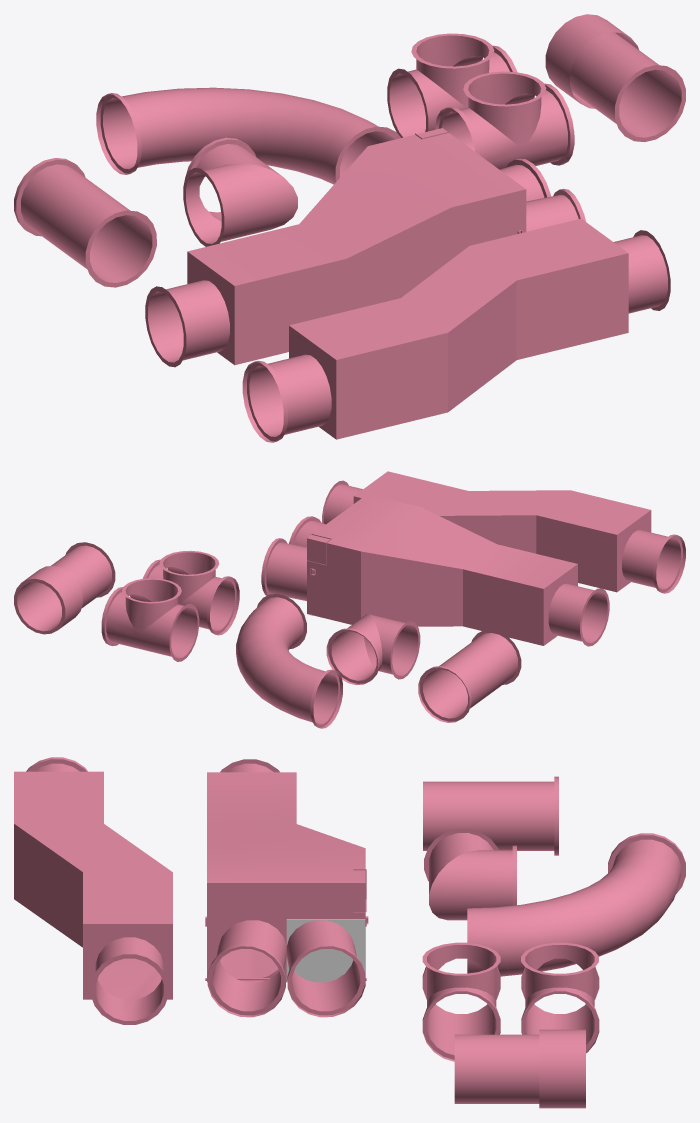
File: TLR Rioolpipes.fbx
3 views of the same model, one above another, from view 1: azimuth 30°, elevation 25°; view 2: azimuth 150°, elevation 25°; view 3: azimuth 270°, elevation 25° (orthographic). The views are drawn at different scales.
Visible parts, largest first — view 1: SekainPipeRoom, SluisPIpeRoom, HoekGrootPipe, EindePipe, RechtPipe, TsplitPIpe, HoekSmallPIpe, TsplitPIpeUP; view 2: SluisPIpeRoom, SekainPipeRoom, HoekGrootPipe, TsplitPIpeUP, EindePipe, RechtPipe, HoekSmallPIpe, TsplitPIpe; view 3: SluisPIpeRoom, SekainPipeRoom, HoekGrootPipe, EindePipe, RechtPipe, HoekSmallPIpe, TsplitPIpe, TsplitPIpeUP, SluisDeur.
Boxes of the visible parts, left/top/right/bottom form: SekainPipeRoom: left=242, top=218, right=670, bottom=442; SluisPIpeRoom: left=145, top=128, right=585, bottom=367; HoekGrootPipe: left=96, top=87, right=400, bottom=184; EindePipe: left=545, top=14, right=685, bottom=142; RechtPipe: left=14, top=158, right=156, bottom=287; TsplitPIpe: left=435, top=71, right=574, bottom=169; HoekSmallPIpe: left=183, top=137, right=297, bottom=246; TsplitPIpeUP: left=387, top=33, right=517, bottom=137; SluisPIpeRoom: left=261, top=494, right=609, bottom=646; SekainPipeRoom: left=322, top=471, right=685, bottom=593; HoekGrootPipe: left=236, top=594, right=342, bottom=728; TsplitPIpeUP: left=101, top=578, right=199, bottom=661; EindePipe: left=14, top=542, right=115, bottom=634; RechtPipe: left=418, top=629, right=521, bottom=722; HoekSmallPIpe: left=326, top=614, right=420, bottom=685; TsplitPIpe: left=142, top=550, right=239, bottom=635; SluisPIpeRoom: left=205, top=759, right=368, bottom=1017; SekainPipeRoom: left=14, top=757, right=172, bottom=1024; HoekGrootPipe: left=467, top=833, right=685, bottom=976; EindePipe: left=454, top=1029, right=585, bottom=1108; RechtPipe: left=423, top=776, right=558, bottom=855; HoekSmallPIpe: left=424, top=829, right=516, bottom=920; TsplitPIpe: left=422, top=942, right=500, bottom=1061; TsplitPIpeUP: left=521, top=942, right=599, bottom=1053; SluisDeur: left=286, top=919, right=365, bottom=982.
Bounding box in the file's own units: 890 × 149 × 863.
